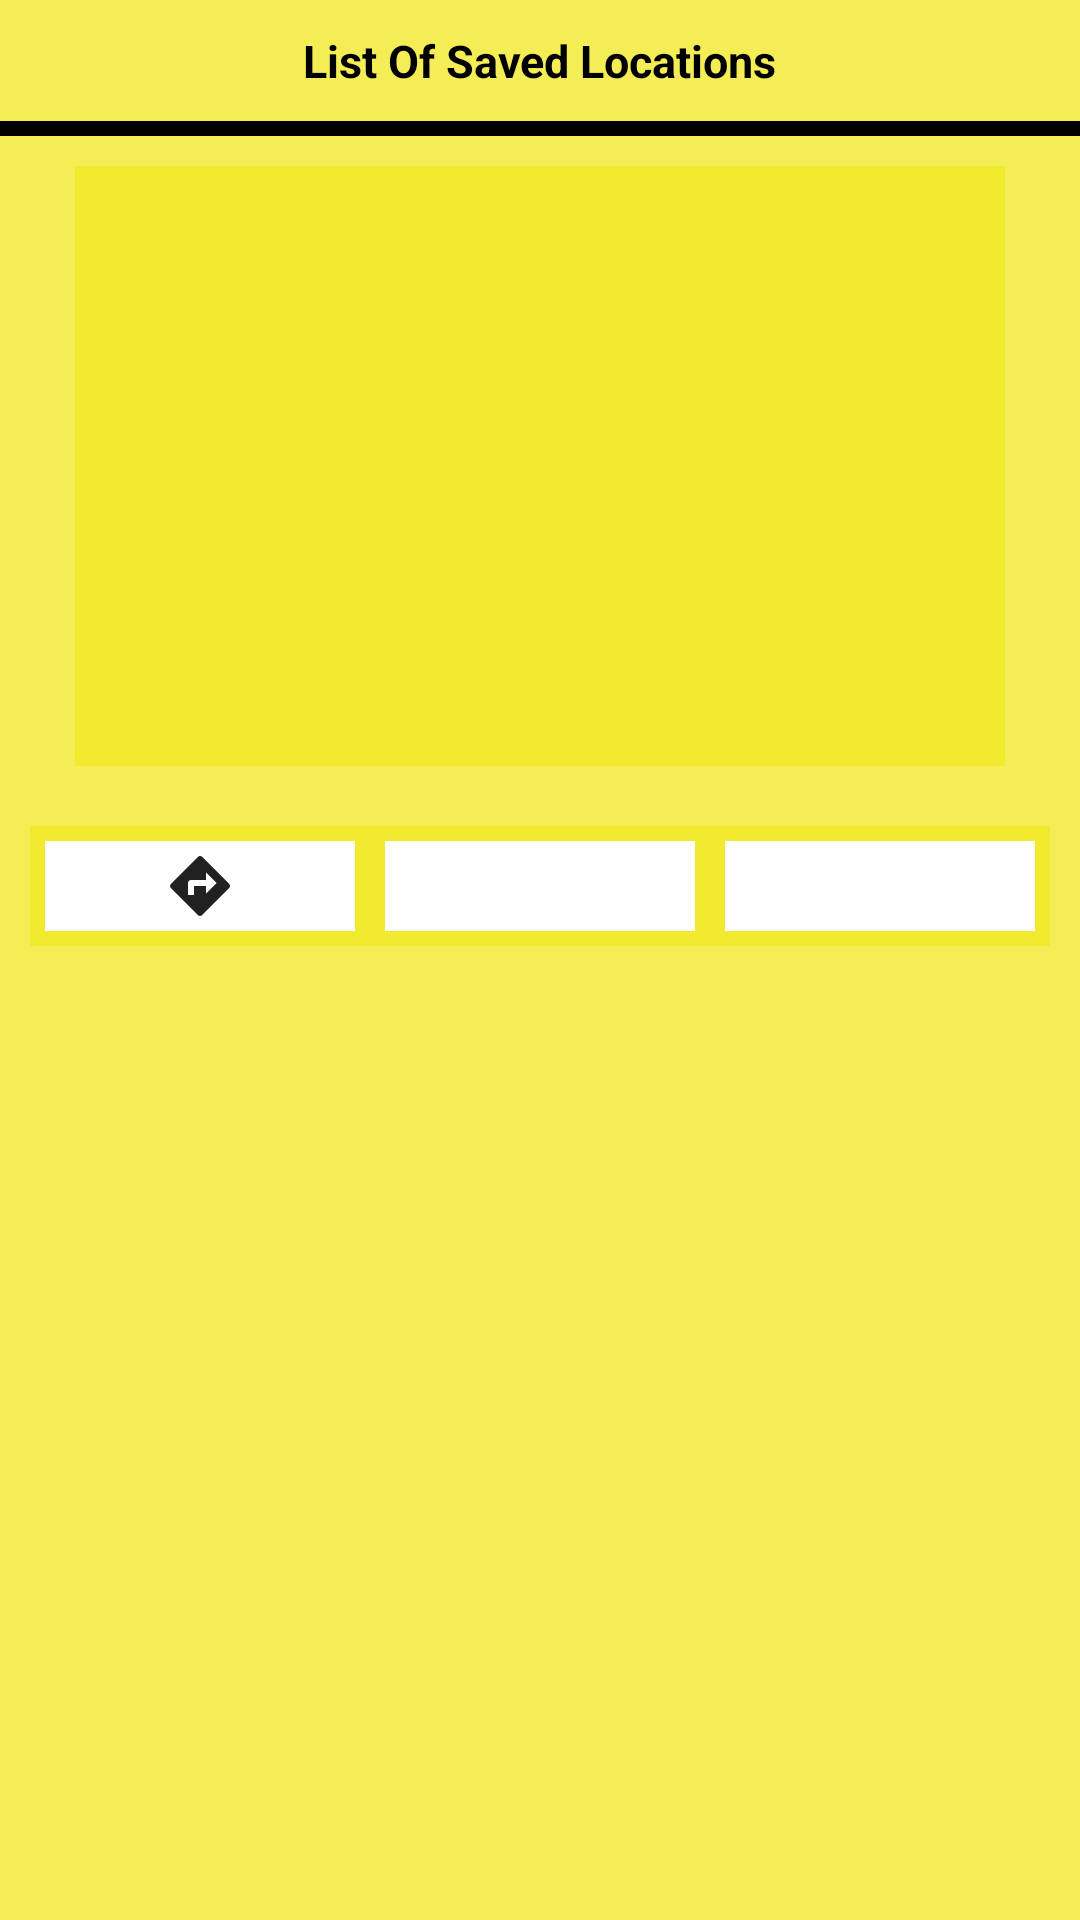

Locate icon controls on the screen. Image size 1080 × 1920, boxes as detection(x1, y1, x2, y2).
directions: detection(45, 841, 355, 931)
